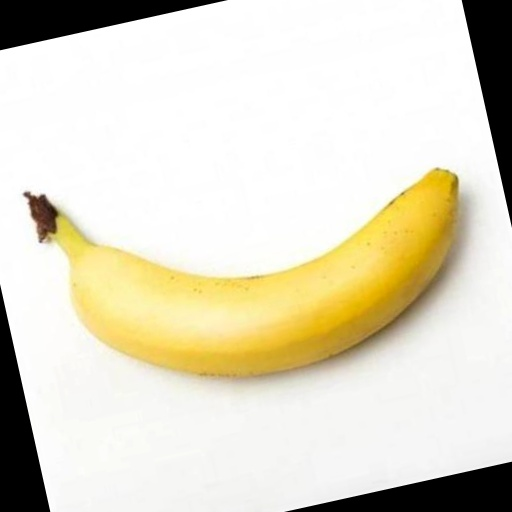fruit: (0, 98, 70, 296)
